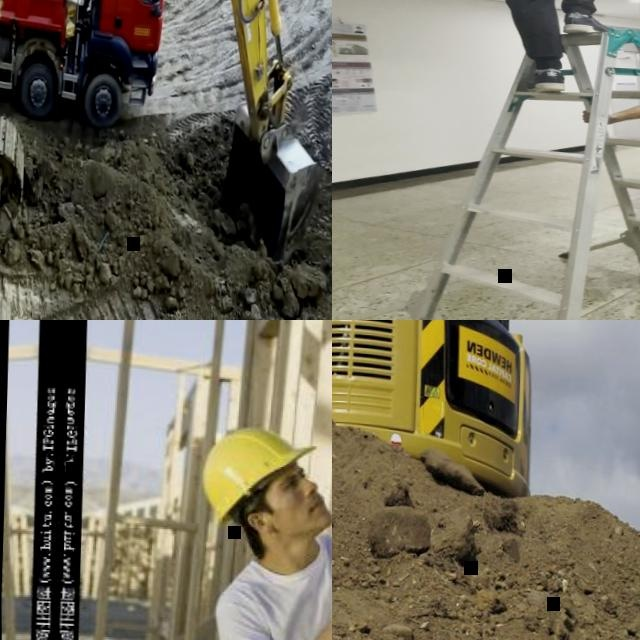Hardhat: (198, 423, 319, 530)
NO-Mask: (280, 489, 332, 534)
NO-Safety Vest: (232, 500, 332, 640)
Person: (147, 335, 332, 640), (343, 0, 625, 95), (576, 32, 640, 275)
machinery: (0, 0, 329, 320), (332, 320, 540, 513), (0, 0, 172, 129)
